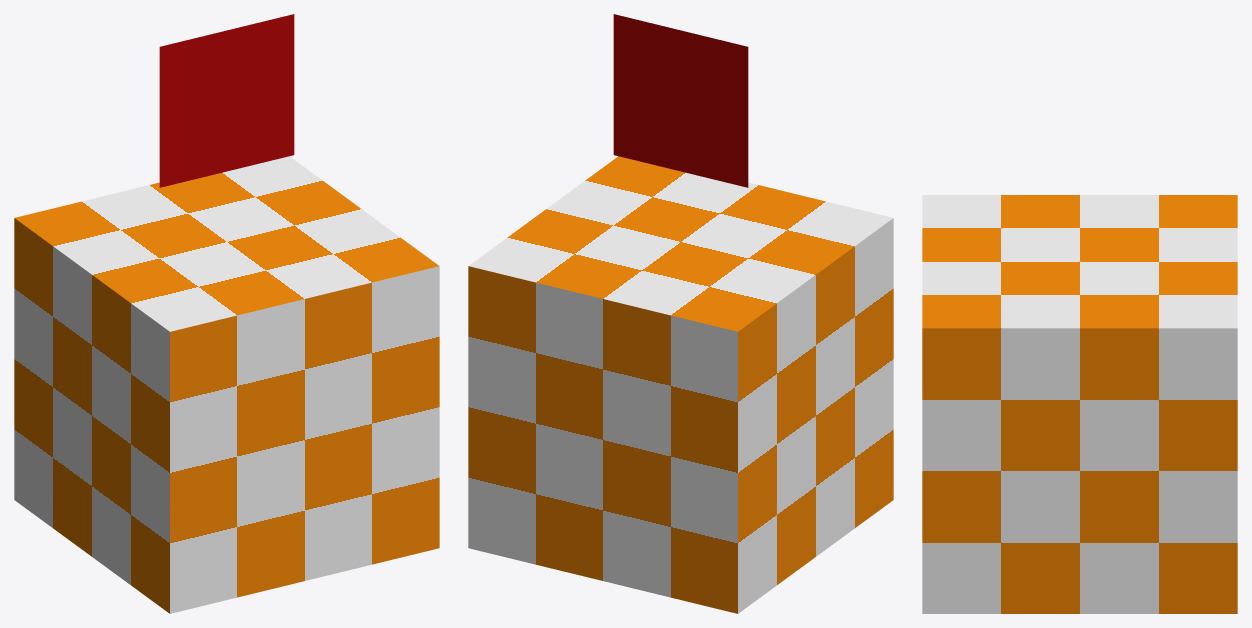
The model's file is test_crate.glb.
3 views of the same model, side by side, from view 1: azimuth 30°, elevation 25°; view 2: azimuth 150°, elevation 25°; view 3: azimuth 270°, elevation 25° (orthographic).
Visible parts, largest first — view 1: crate, flag; view 2: crate, flag; view 3: crate.
Part boxes in pixels (box(x1,y1,x2,y2)): crate: box(14, 156, 439, 613); flag: box(159, 14, 294, 187); crate: box(468, 156, 893, 613); flag: box(613, 14, 748, 187); crate: box(922, 195, 1237, 613).
Size of the model in its own units: 1 by 1.75 by 1.
Materials: 2 (1 with a texture image).
